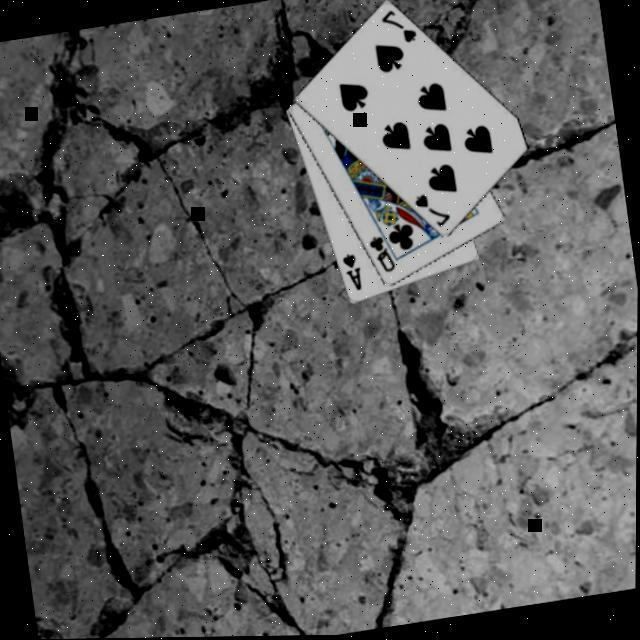7S: (409, 188, 452, 235), (375, 4, 418, 50)
AS: (337, 250, 365, 296)
QC: (363, 232, 397, 279)
